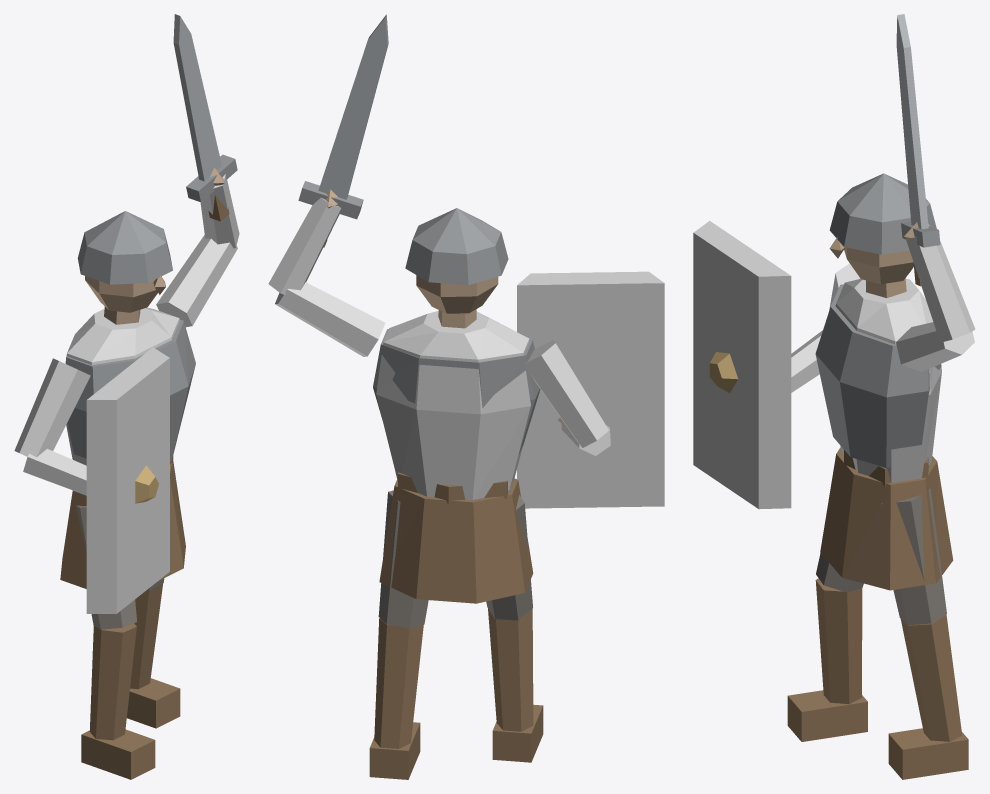
Rendered from swordsman.glb.
3 views of the same model, side by side, from view 1: azimuth 30°, elevation 25°; view 2: azimuth 150°, elevation 25°; view 3: azimuth 270°, elevation 25° (orthographic). The views are drawn at different scales.
Visible parts, largest first — view 1: LOD0; view 2: LOD0; view 3: LOD0.
Part boxes in pixels (left/top/right/bottom): LOD0: left=14, top=14, right=239, bottom=779; LOD0: left=268, top=14, right=664, bottom=779; LOD0: left=693, top=14, right=975, bottom=779.
Size of what is drawn, in the model's own units: 0.5318 by 1.31 by 0.44.
